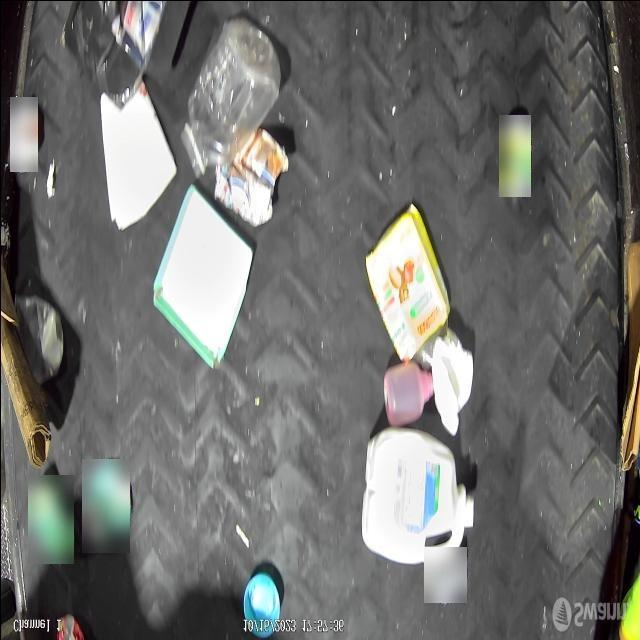milk_jug: (361, 426, 474, 564)
non_white_jug: (364, 202, 450, 363)
